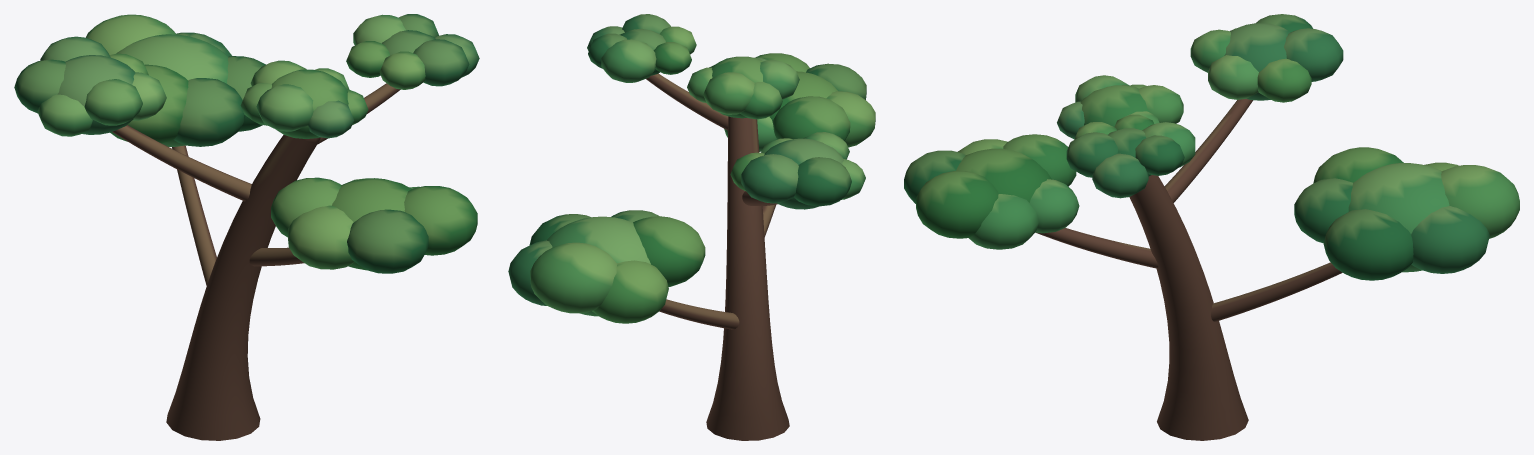
Rendered from cloud-tree.obj.
3 views of the same model, side by side, from view 1: azimuth 30°, elevation 25°; view 2: azimuth 150°, elevation 25°; view 3: azimuth 270°, elevation 25° (orthographic). The views are drawn at different scales.
Visible parts, largest first — view 1: tree; view 2: tree; view 3: tree.
Boxes of the visible parts, x1,y1,x2,y2 form: tree: (14,14,479,440); tree: (508,14,875,440); tree: (904,14,1519,440).
Bounding box in the file's own units: 291 × 283 × 428.
